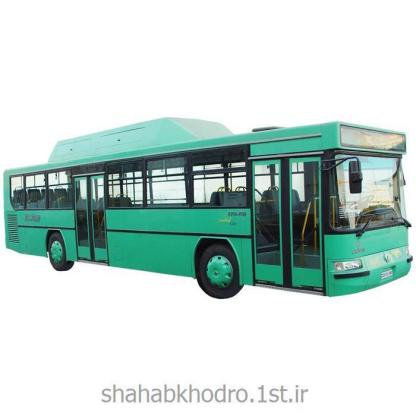Bus: (0, 110, 416, 312)
